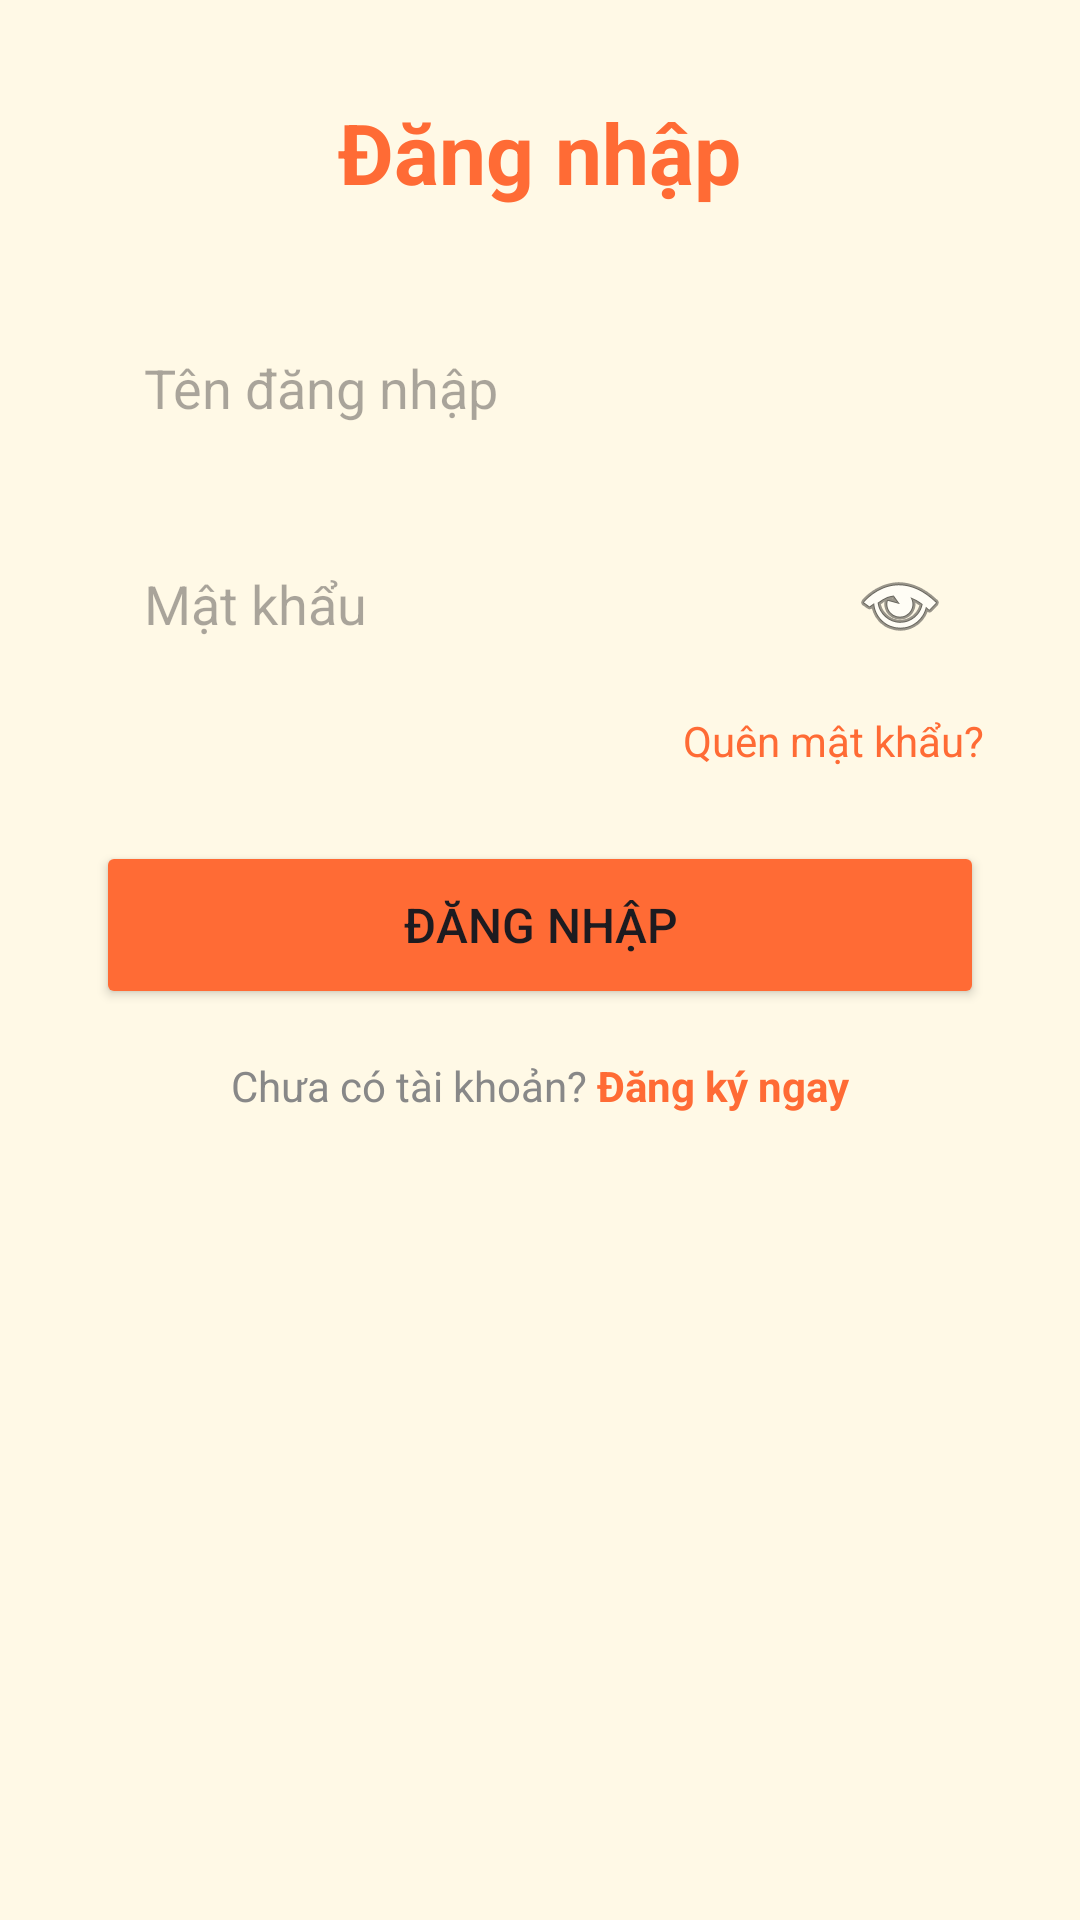

Named icons in this screenshot (1080*1920) and their bounding boxes, bbox=[x1, y1, x2, y2]:
Show/Hide Password: bbox=[861, 582, 939, 631]
